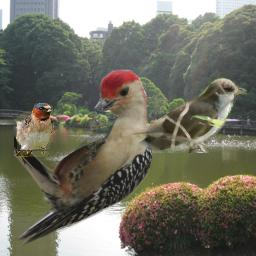Cuckoo: (122, 77, 247, 153)
Swallow: (15, 103, 54, 157)
Woodpecker: (14, 69, 152, 252)
